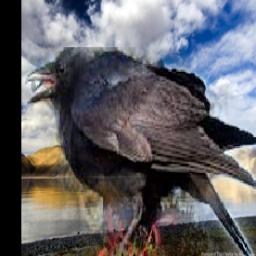Crow: (23, 48, 256, 256)
